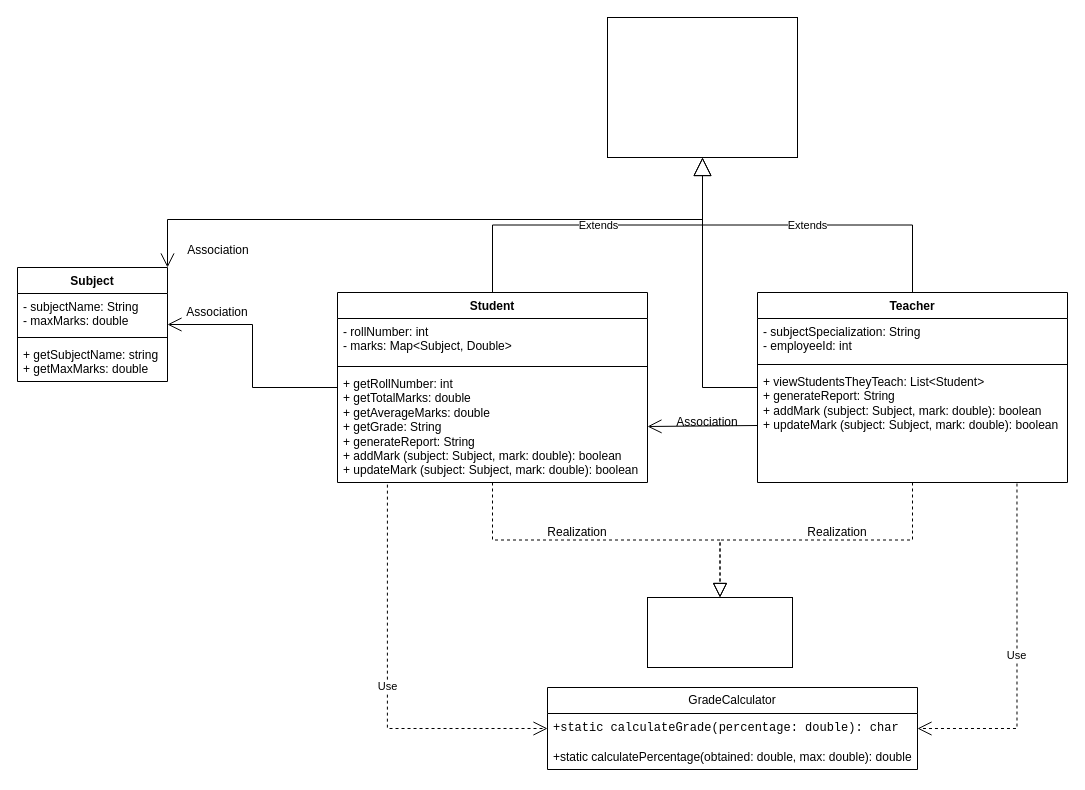
Some shapes in this 1085 by 790 pixel diagram are drawn without their labels. Each missing label, with the centre of its shape:
<<Abstract>> Person - id: int - name: String + getName: String + getId: int: (x=702, y=87)
<<Interface>> Reportable + generateReport: String: (x=719, y=632)
